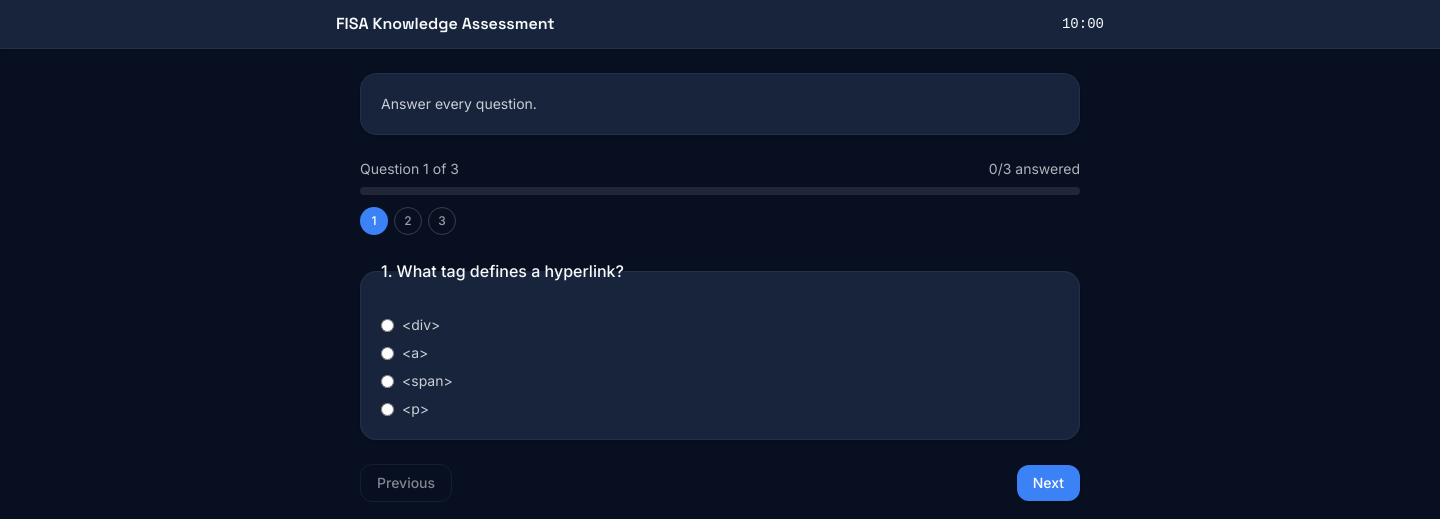
Test: McqExamPage — one-question-at-a-time navigation and progress › clicking a question-number pill jumps directly to that question
Expected: the text "Question 1 of 3" is shown, [360,159,459,179]
What coordinates should you click on to do the following:
click the button named "go to question 3"
I would click on:
 (442, 221)
Its box is [428,207,456,235].
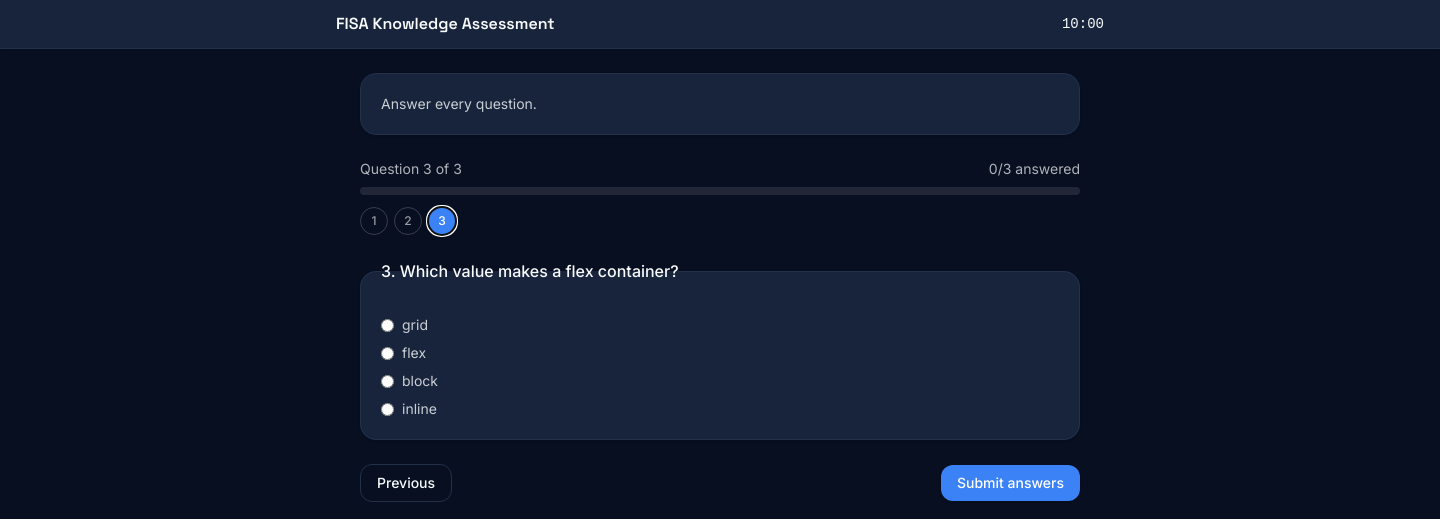
Result: the text "Question 3 of 3" is shown at [360,159,462,179]
Result: the text "3. Which value makes a flex container?" is shown at [381,259,679,283]
